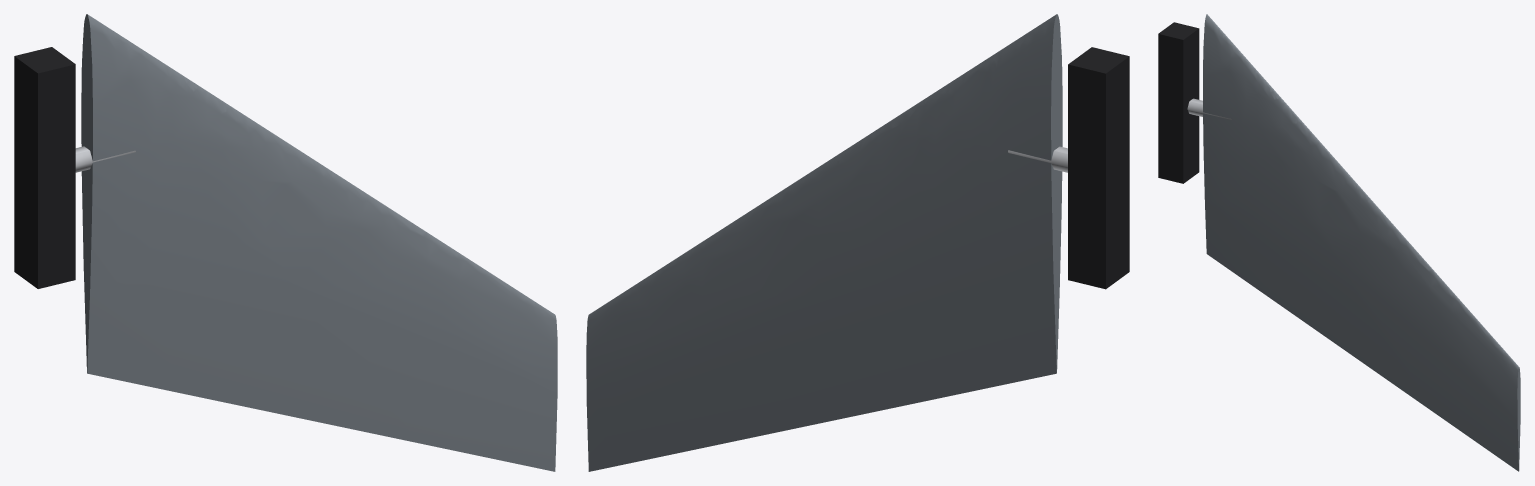
File: jet09_control_surface_canard_m.glb
3 views of the same model, side by side, from view 1: azimuth 30°, elevation 25°; view 2: azimuth 150°, elevation 25°; view 3: azimuth 330°, elevation 25° (orthographic). The views are drawn at different scales.
Visible parts, largest first — view 1: surface, root_housing; view 2: surface, root_housing; view 3: surface, root_housing.
Part boxes in pixels (x1,y1,x2,y2): surface: [81, 14, 557, 471]; root_housing: [14, 47, 75, 288]; surface: [586, 14, 1062, 471]; root_housing: [1068, 47, 1129, 289]; surface: [1203, 14, 1520, 471]; root_housing: [1158, 22, 1199, 183].
Size of the model in its own units: 2.46 by 2.55 by 0.192.
Materials: 3 (1 with a texture image).
